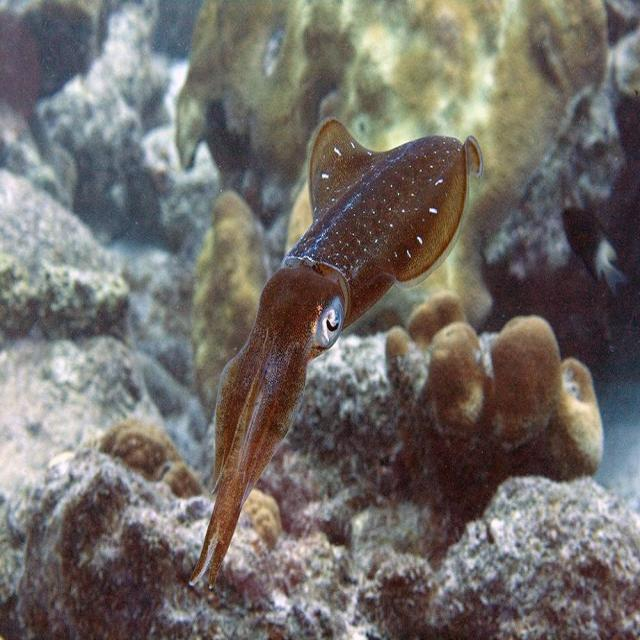SQUID: (152, 82, 502, 617)
